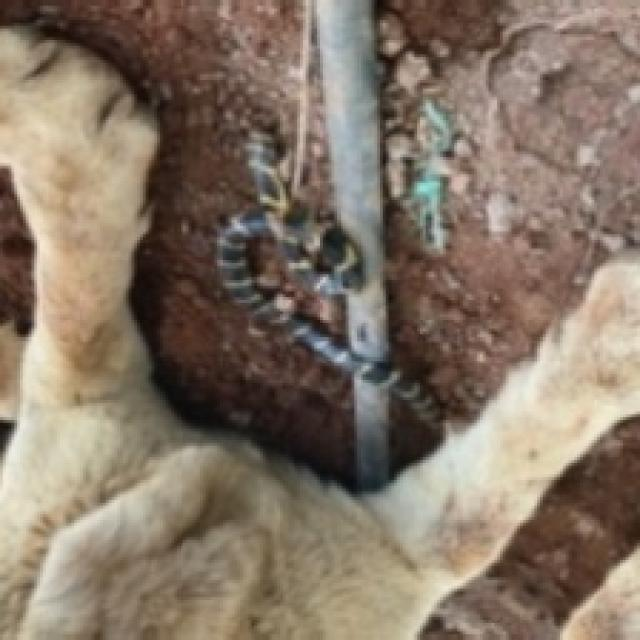king cobra: (0, 31, 637, 637), (217, 129, 357, 391)
